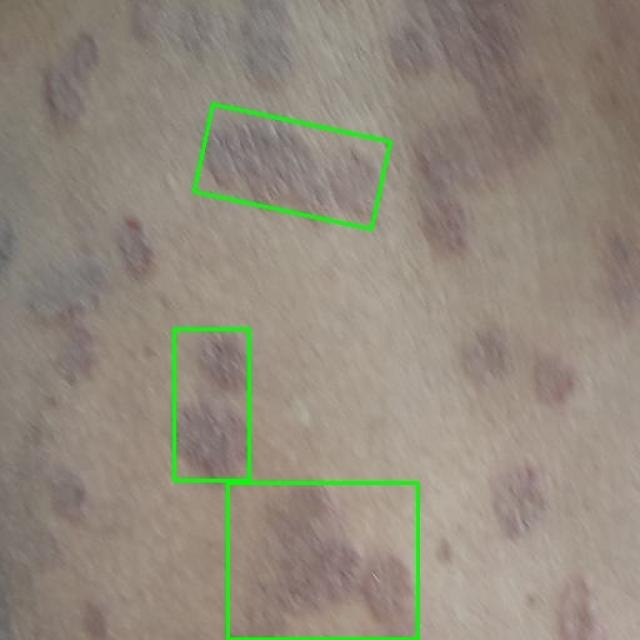Tinea Corporis: (228, 482, 418, 639), (194, 105, 391, 230), (174, 329, 249, 480)
